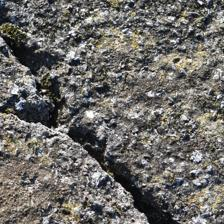Crack: (3, 12, 165, 209)
